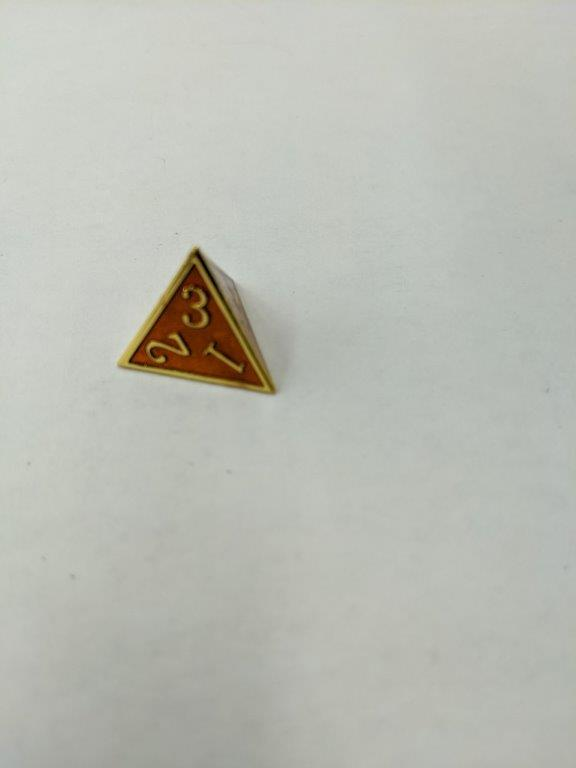d4-3: (114, 242, 280, 402)
